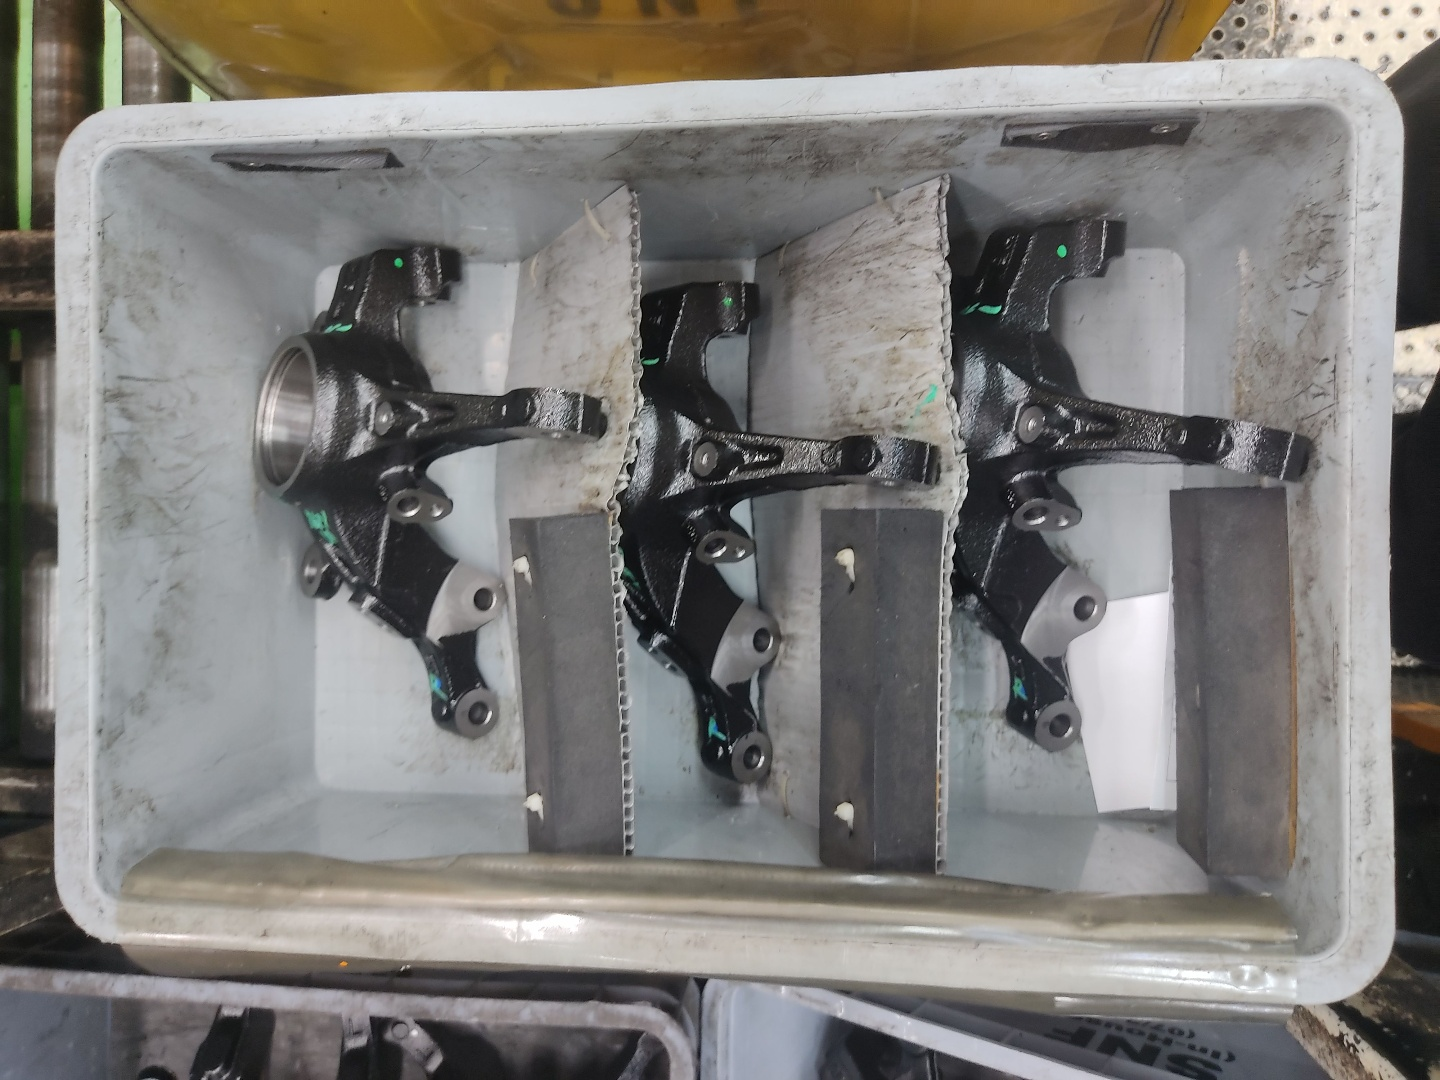abs-rh: (952, 202, 1321, 760), (247, 233, 615, 756), (621, 260, 949, 792)
